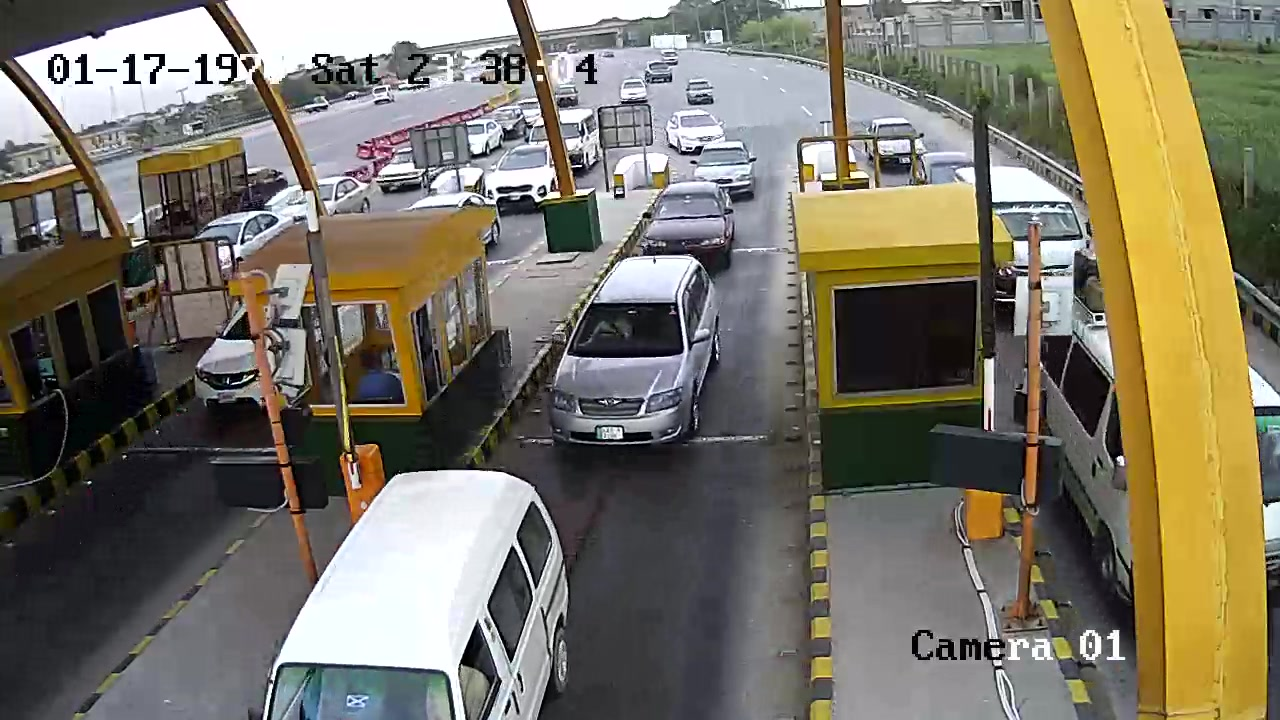F1: (536, 254, 753, 457)
